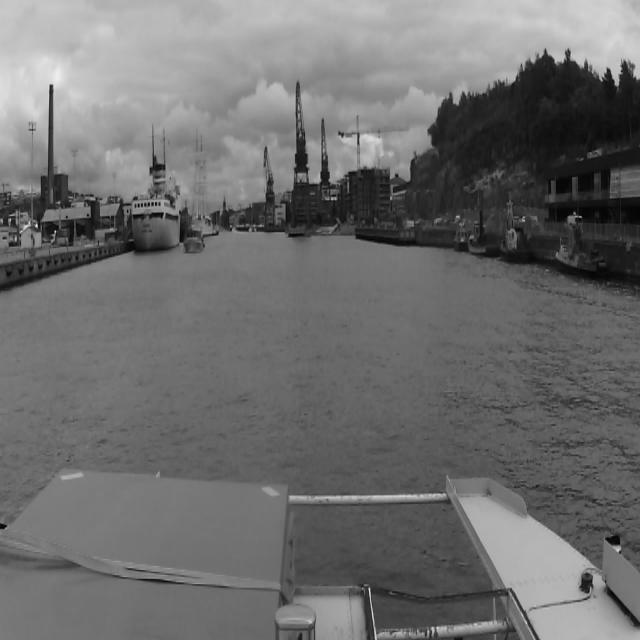ship: (130, 164, 179, 254), (556, 212, 611, 284), (187, 132, 213, 236), (501, 198, 533, 262), (470, 208, 488, 258), (184, 228, 204, 252), (454, 225, 468, 251)
